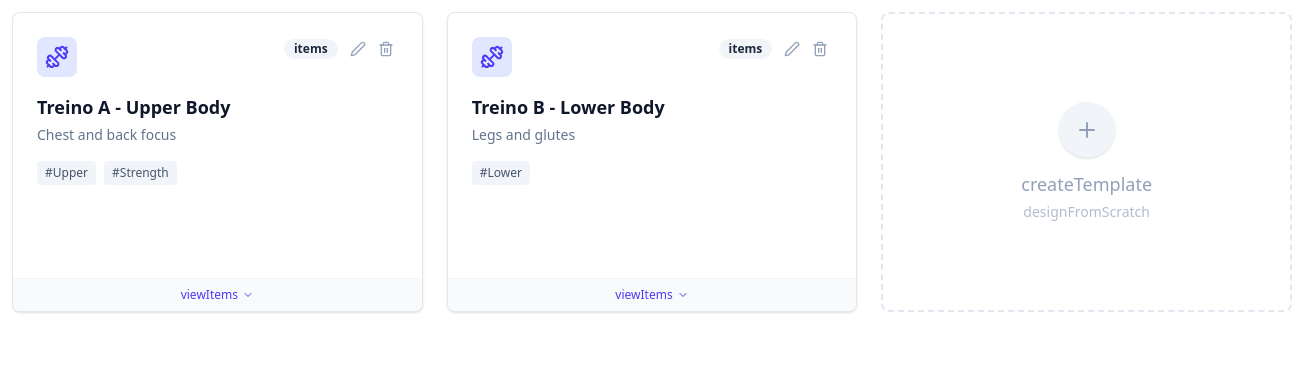
Test: WorkoutLibrary › exercise expansion works
Expected: the text "Bench Press" is not shown
# Click the first expand button
Click the button "viewItems" below "Strength".
click(217, 294)  # box [13, 278, 422, 311]
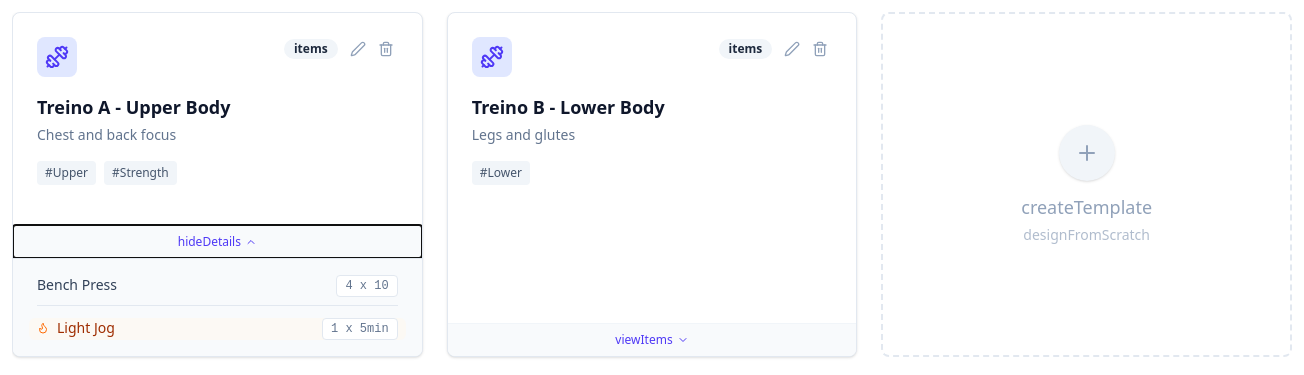
Expected: the text "Bench Press" is shown, [37, 275, 117, 295]
Expected: the text "Light Jog" is shown, [57, 318, 115, 338]
